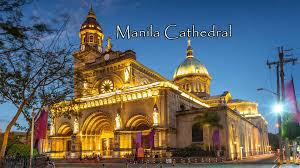manila_cathedral_church_intramuros_manila: (41, 8, 227, 163)
